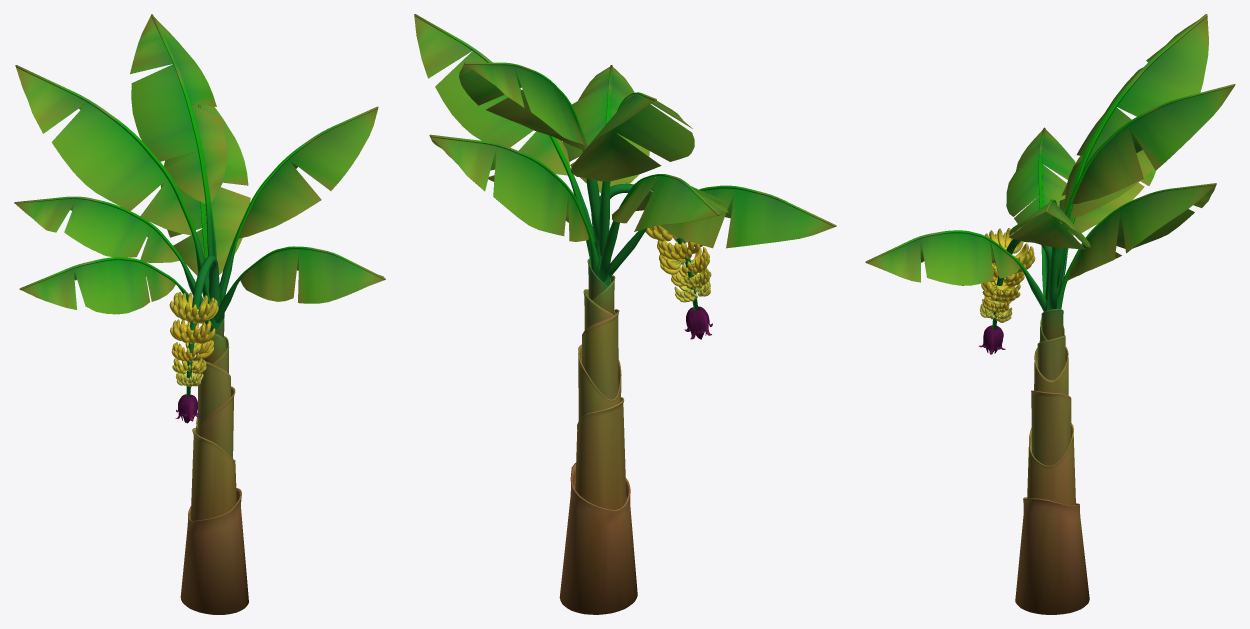
File: PlantWithBananas.fbx
3 renders of one model, left to right at view 1: azimuth 30°, elevation 25°; view 2: azimuth 150°, elevation 25°; view 3: azimuth 270°, elevation 25°, orthographic. The views are drawn at different scales.
Parts seen in each view (by area): view 1: PlantWithBananas; view 2: PlantWithBananas; view 3: PlantWithBananas.
Boxes of the visible parts, x1=… form: PlantWithBananas: x1=14, y1=14, x2=385, y2=614; PlantWithBananas: x1=414, y1=14, x2=836, y2=614; PlantWithBananas: x1=865, y1=14, x2=1235, y2=614.
Size of the model in its own units: 241 by 331 by 209.
1 material, 1 textured.
